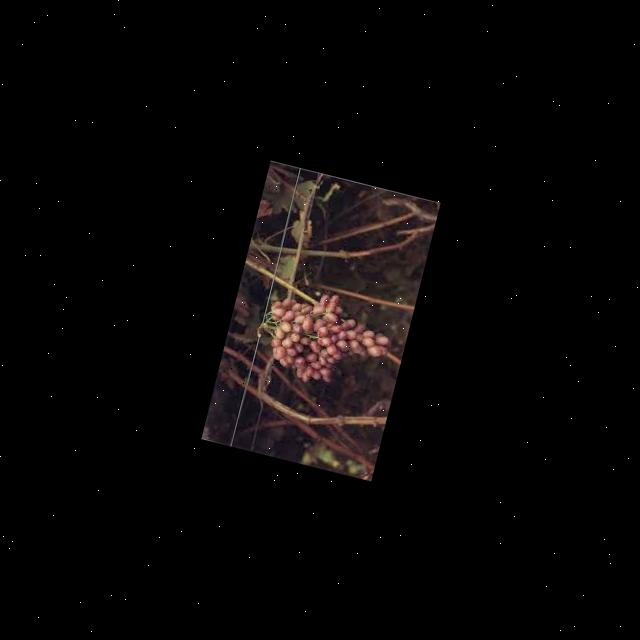grape: (248, 278, 398, 401)
